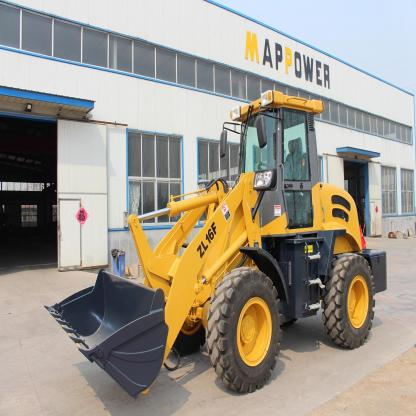bull_dozer/loader/grader: (39, 84, 388, 409)
